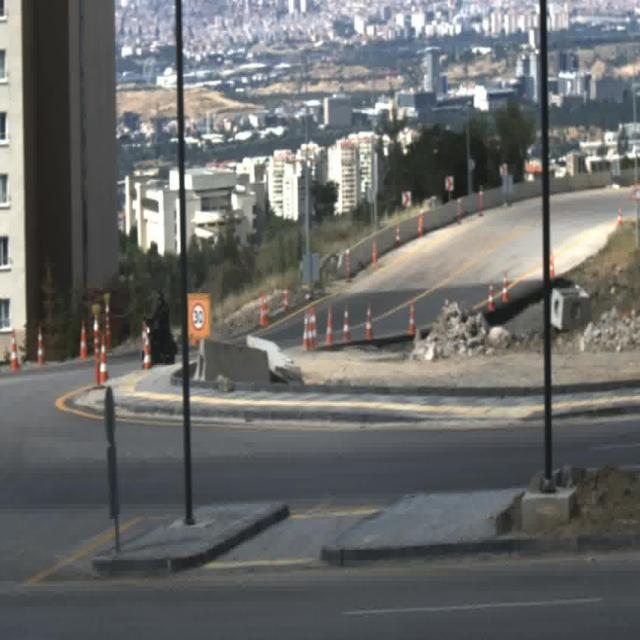Motorcycle: (142, 290, 176, 362)
